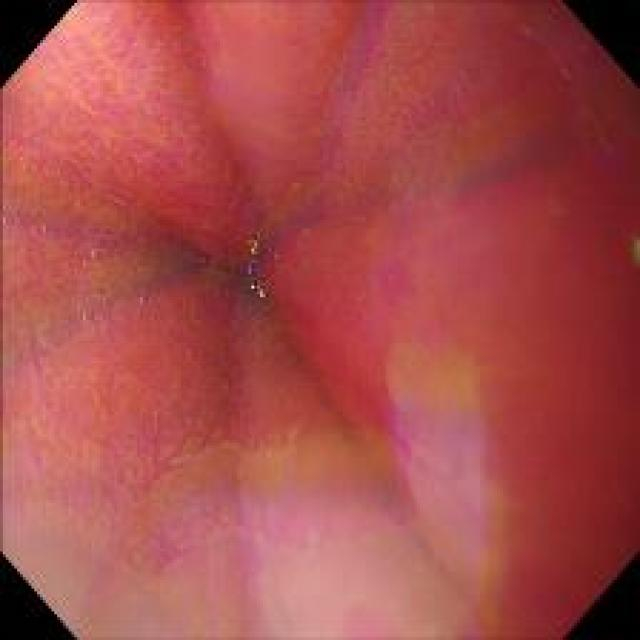blur: (94, 20, 525, 200)
color misalignment: (122, 456, 429, 555), (379, 326, 499, 470), (239, 234, 275, 304), (186, 242, 219, 278), (69, 302, 94, 328), (128, 286, 148, 306)
